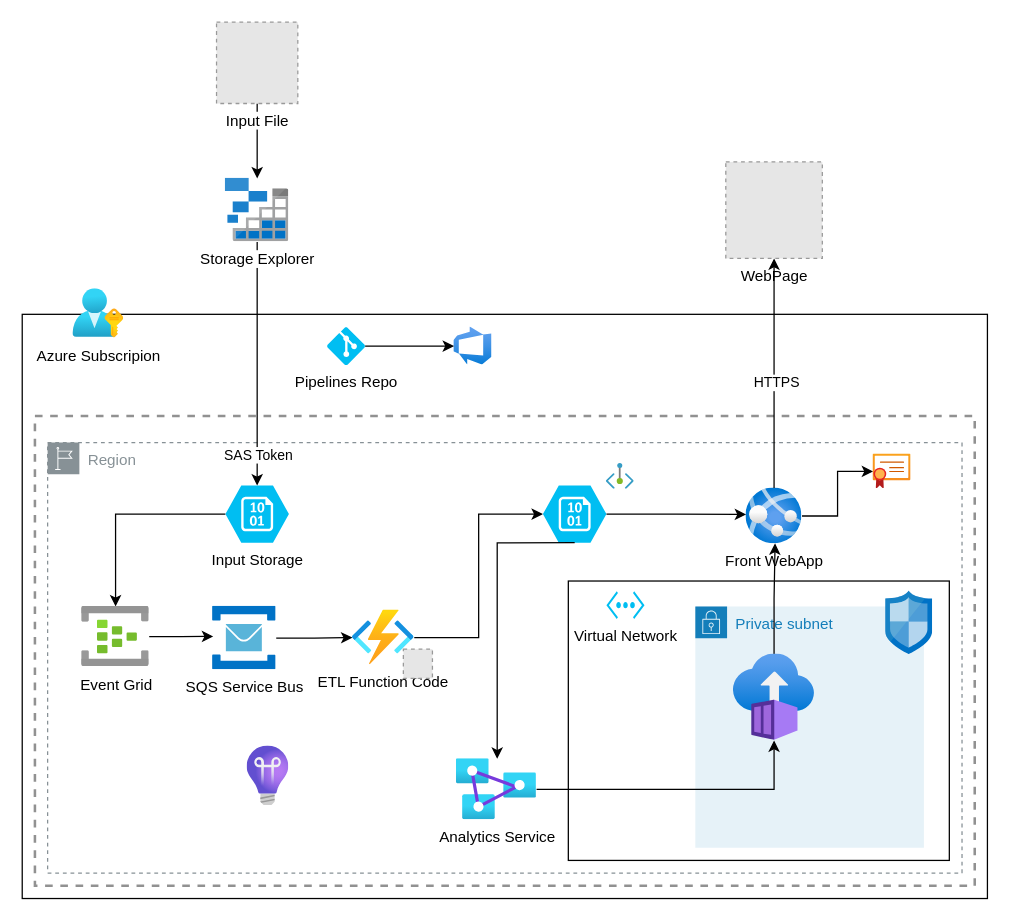
Some shapes in this 1010 by 921 pixel diagram are drawn without their labels. Grey dashed boxes stand in for pictures. The shapes that lost their labels are listed below. From the top down, each one's box as (x1, y1, x2, y2) in pixels, then its label:
(453, 326, 491, 364): CI/CD Integration
(872, 453, 911, 488): App Certificate
(542, 485, 606, 542): Output Storage
(885, 591, 932, 654): NSG
(33, 414, 975, 886): Resource Group
(733, 653, 814, 740): Backend Service
(247, 745, 288, 805): Logs Insights
